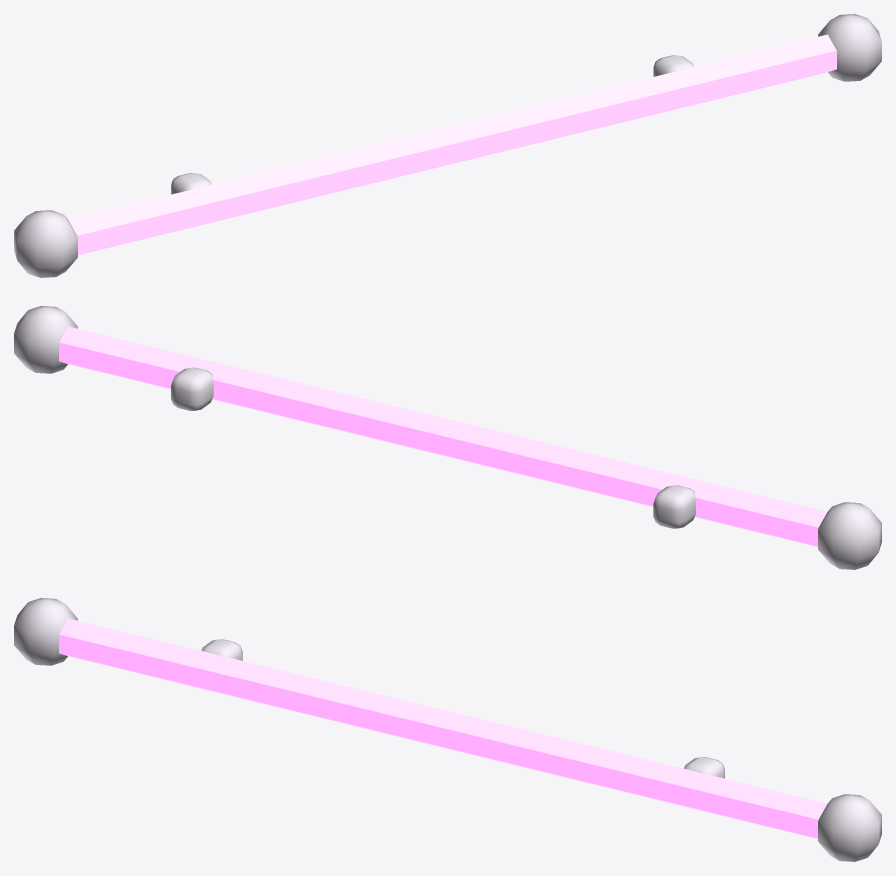
Rendered from neon_strip.glb.
3 views of the same model, one above another, from view 1: azimuth 30°, elevation 25°; view 2: azimuth 150°, elevation 25°; view 3: azimuth 330°, elevation 25° (orthographic).
Visible parts, largest first — view 1: neon_strip; view 2: neon_strip; view 3: neon_strip.
Boxes of the visible parts, x1=… form: neon_strip: x1=14, y1=14, x2=881, y2=277; neon_strip: x1=14, y1=306, x2=881, y2=569; neon_strip: x1=14, y1=598, x2=881, y2=861.
Bounding box in the file's own units: 2.14 × 0.15 × 0.1763.
